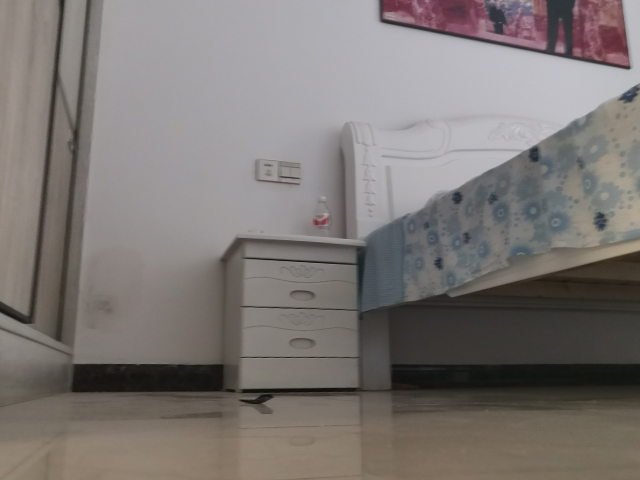bed: (337, 82, 640, 392)
cabinet: (1, 1, 103, 407), (217, 230, 371, 396)
